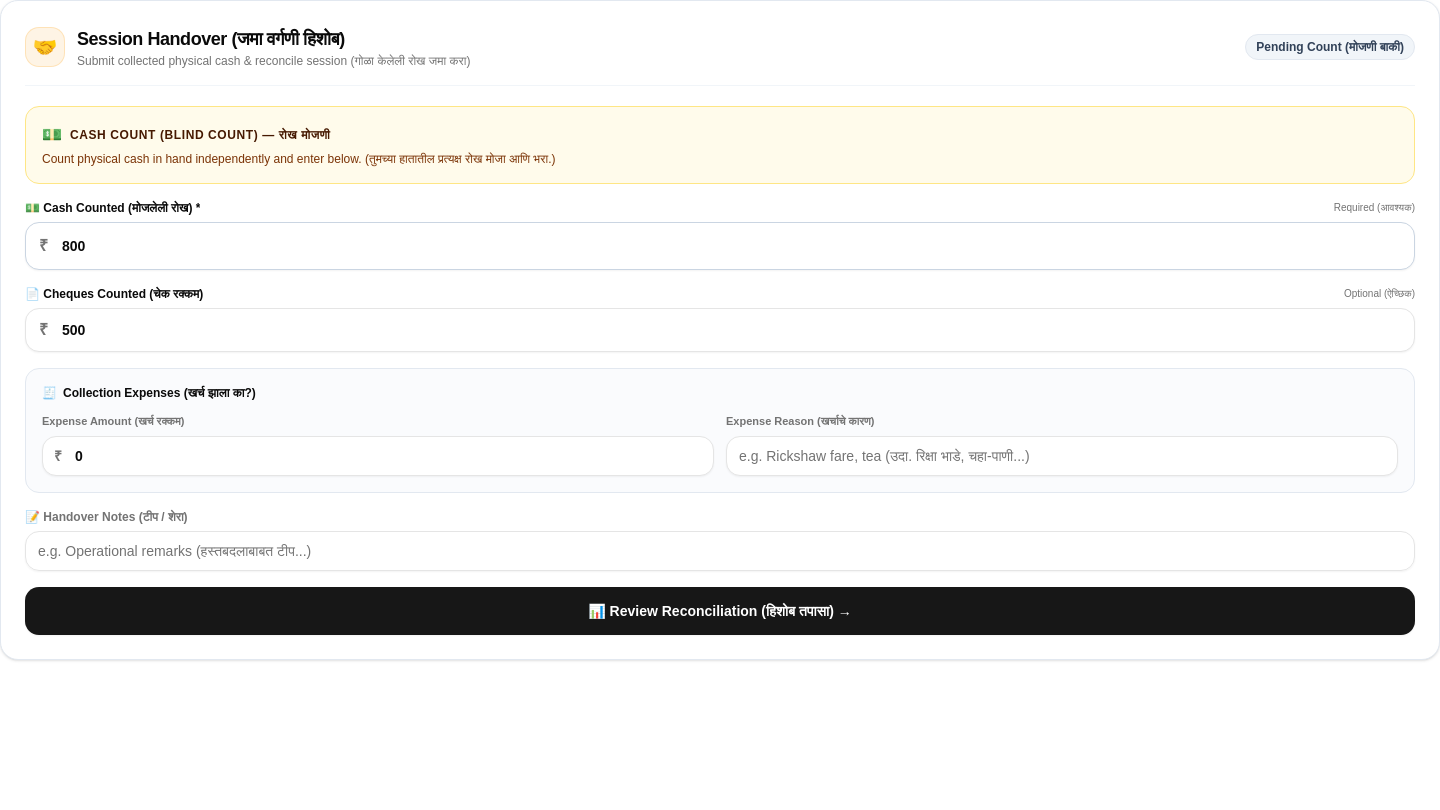
Scenario: VolunteerHandoverForm › 4. handles shortage discrepancy and requires explanation before submitting
The width and height of the screenshot is (1440, 810).
Click the button "📊 Review Reconciliation (हिशोब तपासा) →". click: (720, 610)
box: [25, 586, 1415, 634]
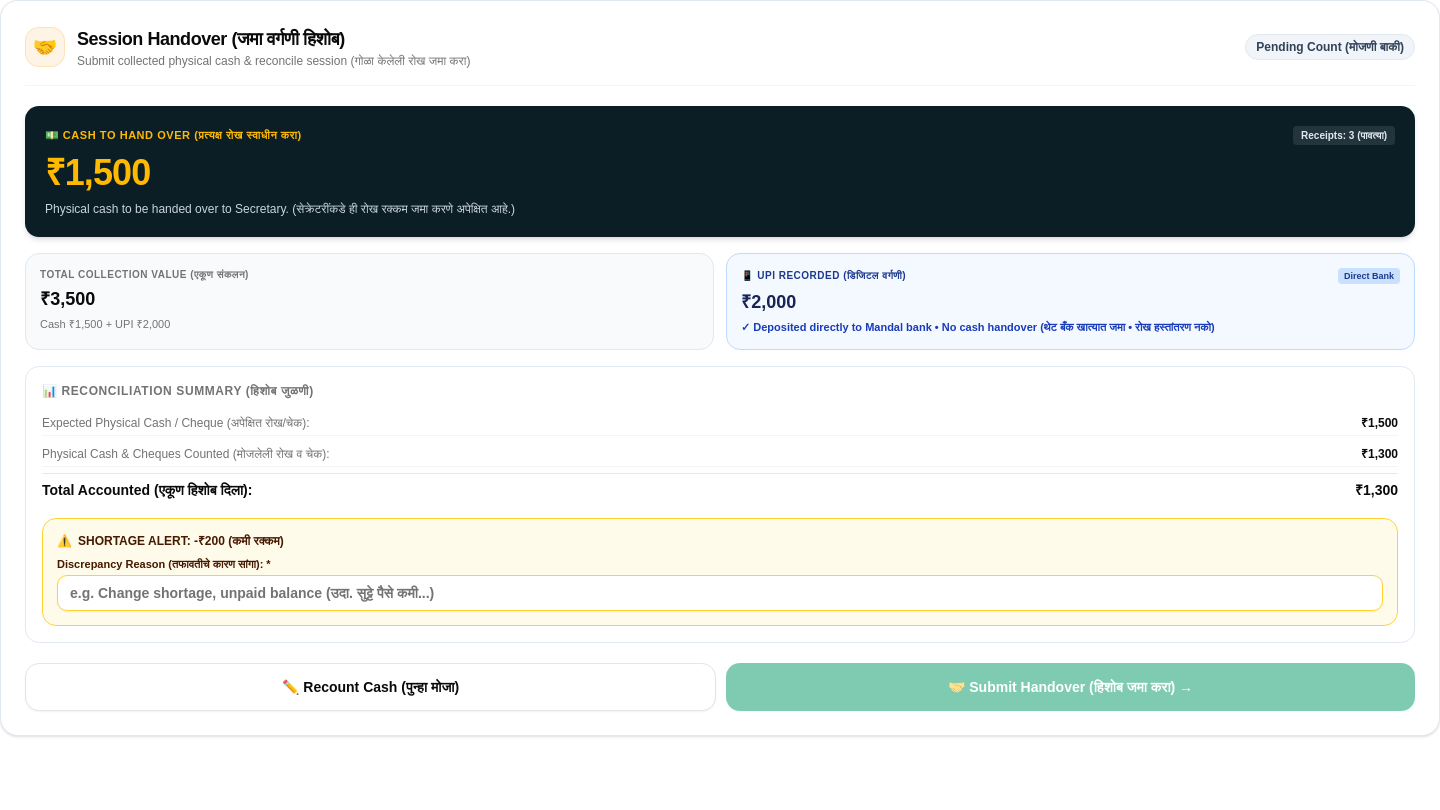
Check: the text "SHORTAGE ALERT: -₹200 (कमी रक्कम)" is shown, box [78, 533, 284, 549]
Check: the field labelled "Discrepancy Reason (तफावतीचे कारण सांगा): *" is shown, box [57, 575, 1383, 611]
Check: the button "🤝 Submit Handover (हिशोब जमा करा) →" is disabled, box [726, 663, 1415, 711]
